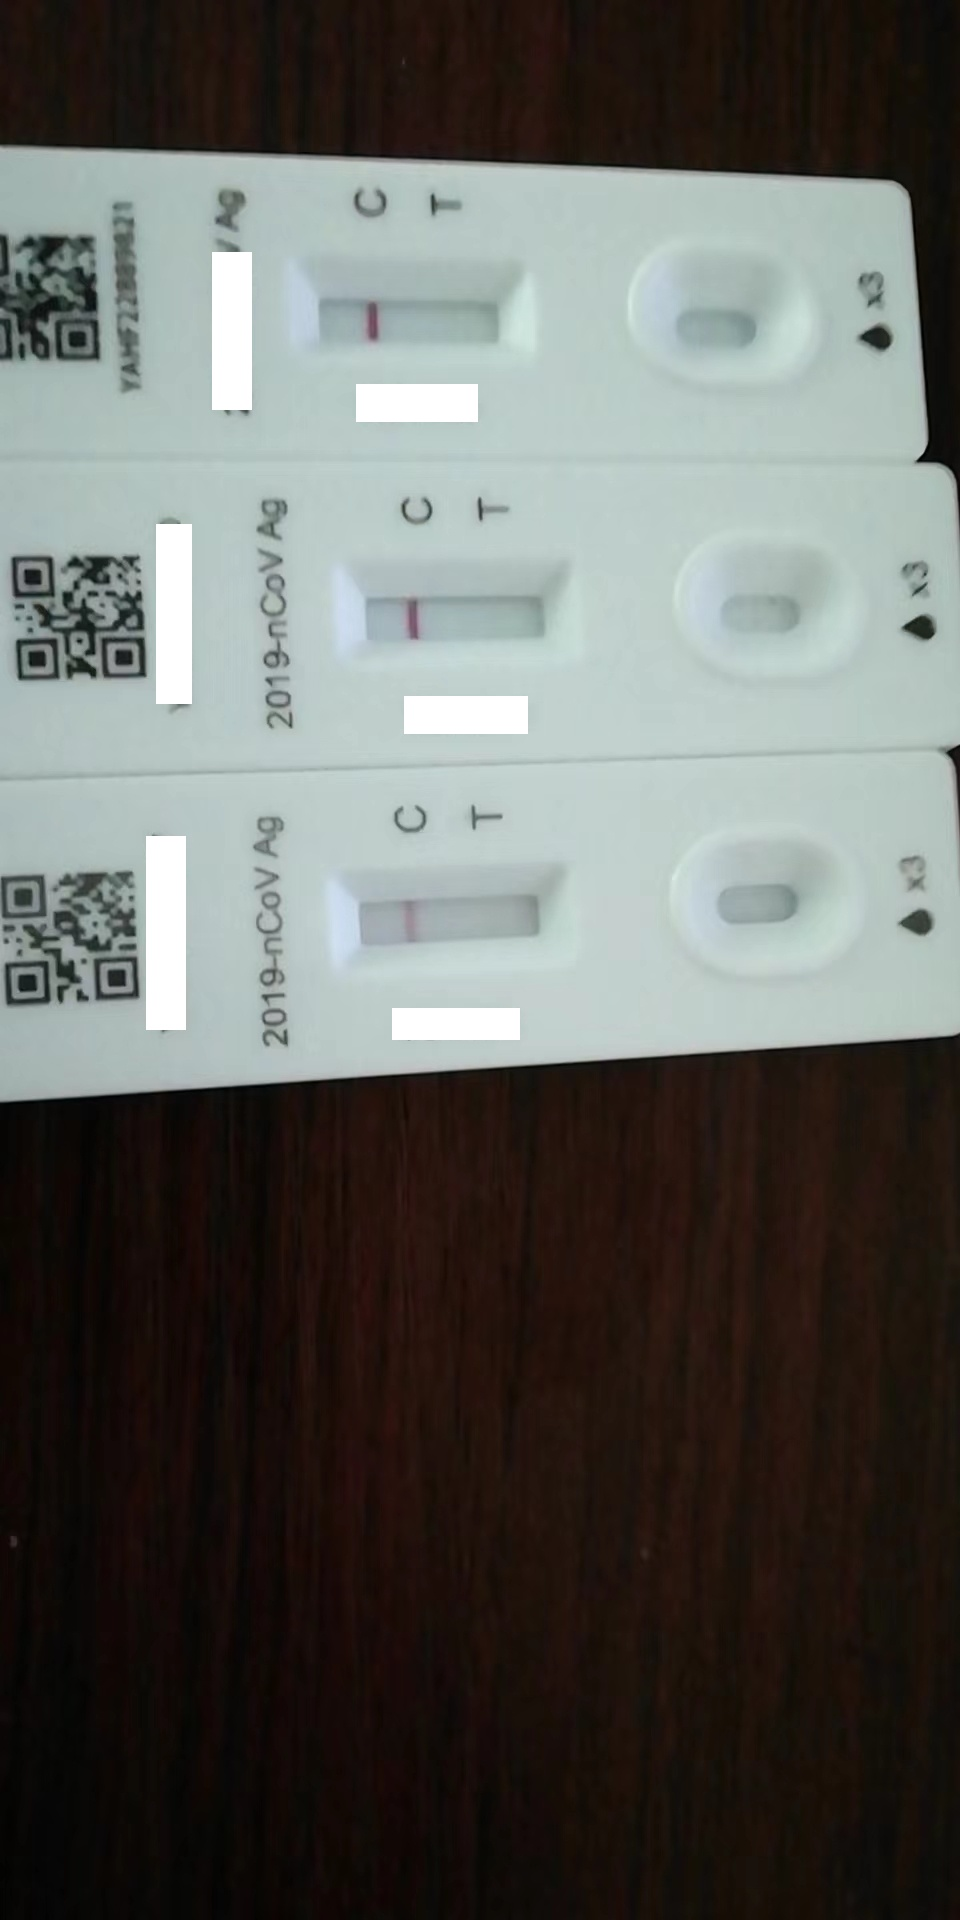negative: (323, 867, 571, 973), (293, 256, 527, 365), (336, 556, 574, 662)
